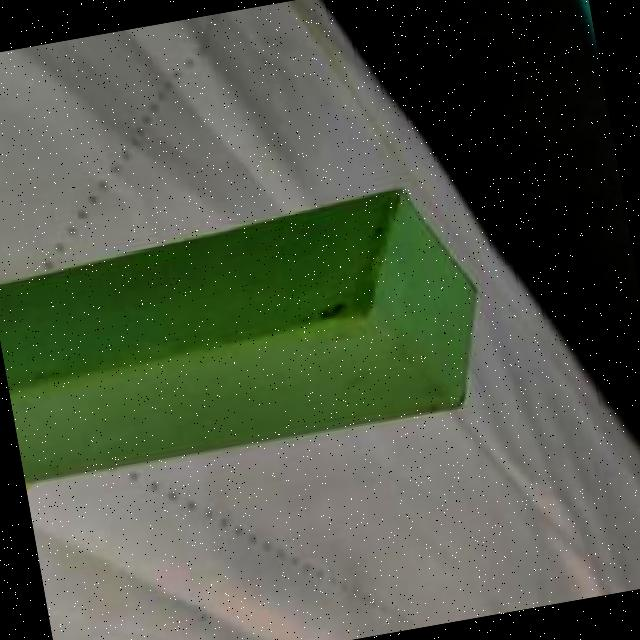greenbox: (0, 178, 503, 485)
